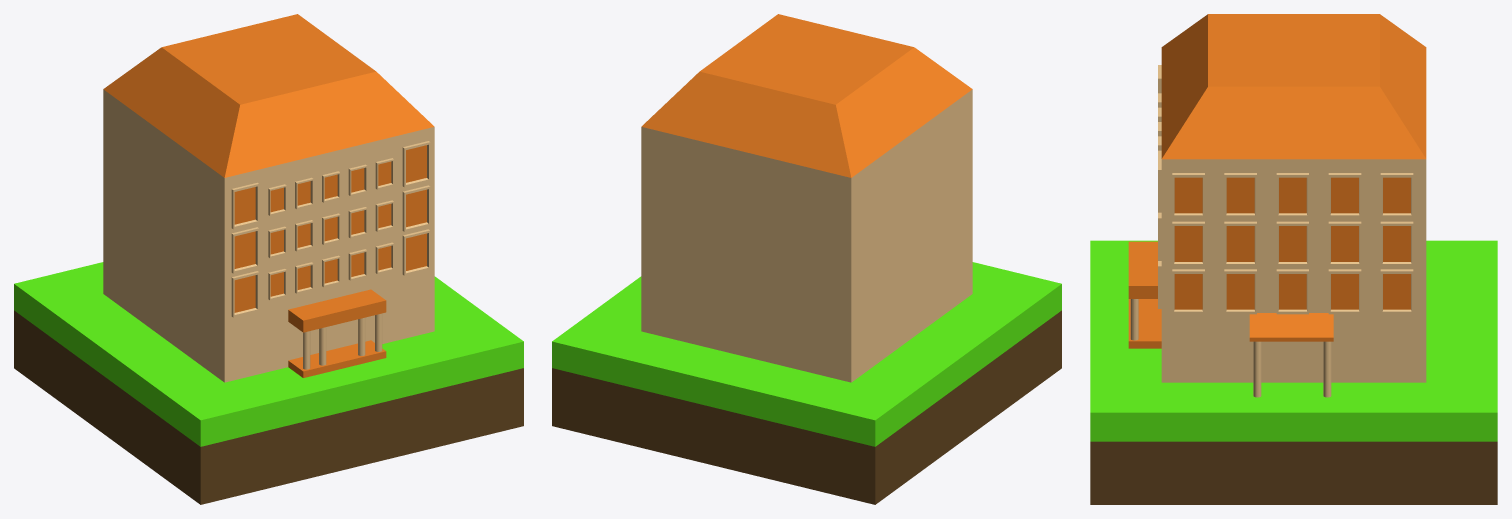
The model's file is Bricks256.glb.
The picture shows the model from 3 angles, left to right: view 1: azimuth 30°, elevation 25°; view 2: azimuth 150°, elevation 25°; view 3: azimuth 270°, elevation 25°; orthographic projection. The views are drawn at different scales.
Parts seen in each view (by area): view 1: Cube.001, Cube; view 2: Cube.001, Cube; view 3: Cube.001, Cube.
Boxes of the visible parts, <box> form: Cube.001: <box>103,14,434,382</box>; Cube: <box>14,262,523,504</box>; Cube.001: <box>641,14,972,382</box>; Cube: <box>552,262,1061,504</box>; Cube.001: <box>1128,14,1426,397</box>; Cube: <box>1090,240,1497,504</box>.
Size of the model in its own units: 2 by 2 by 2.
